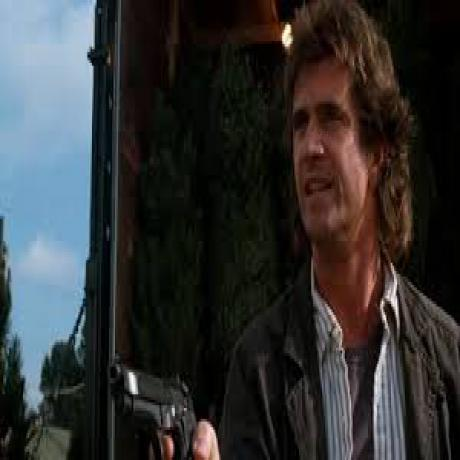Guns: (107, 352, 199, 456)
